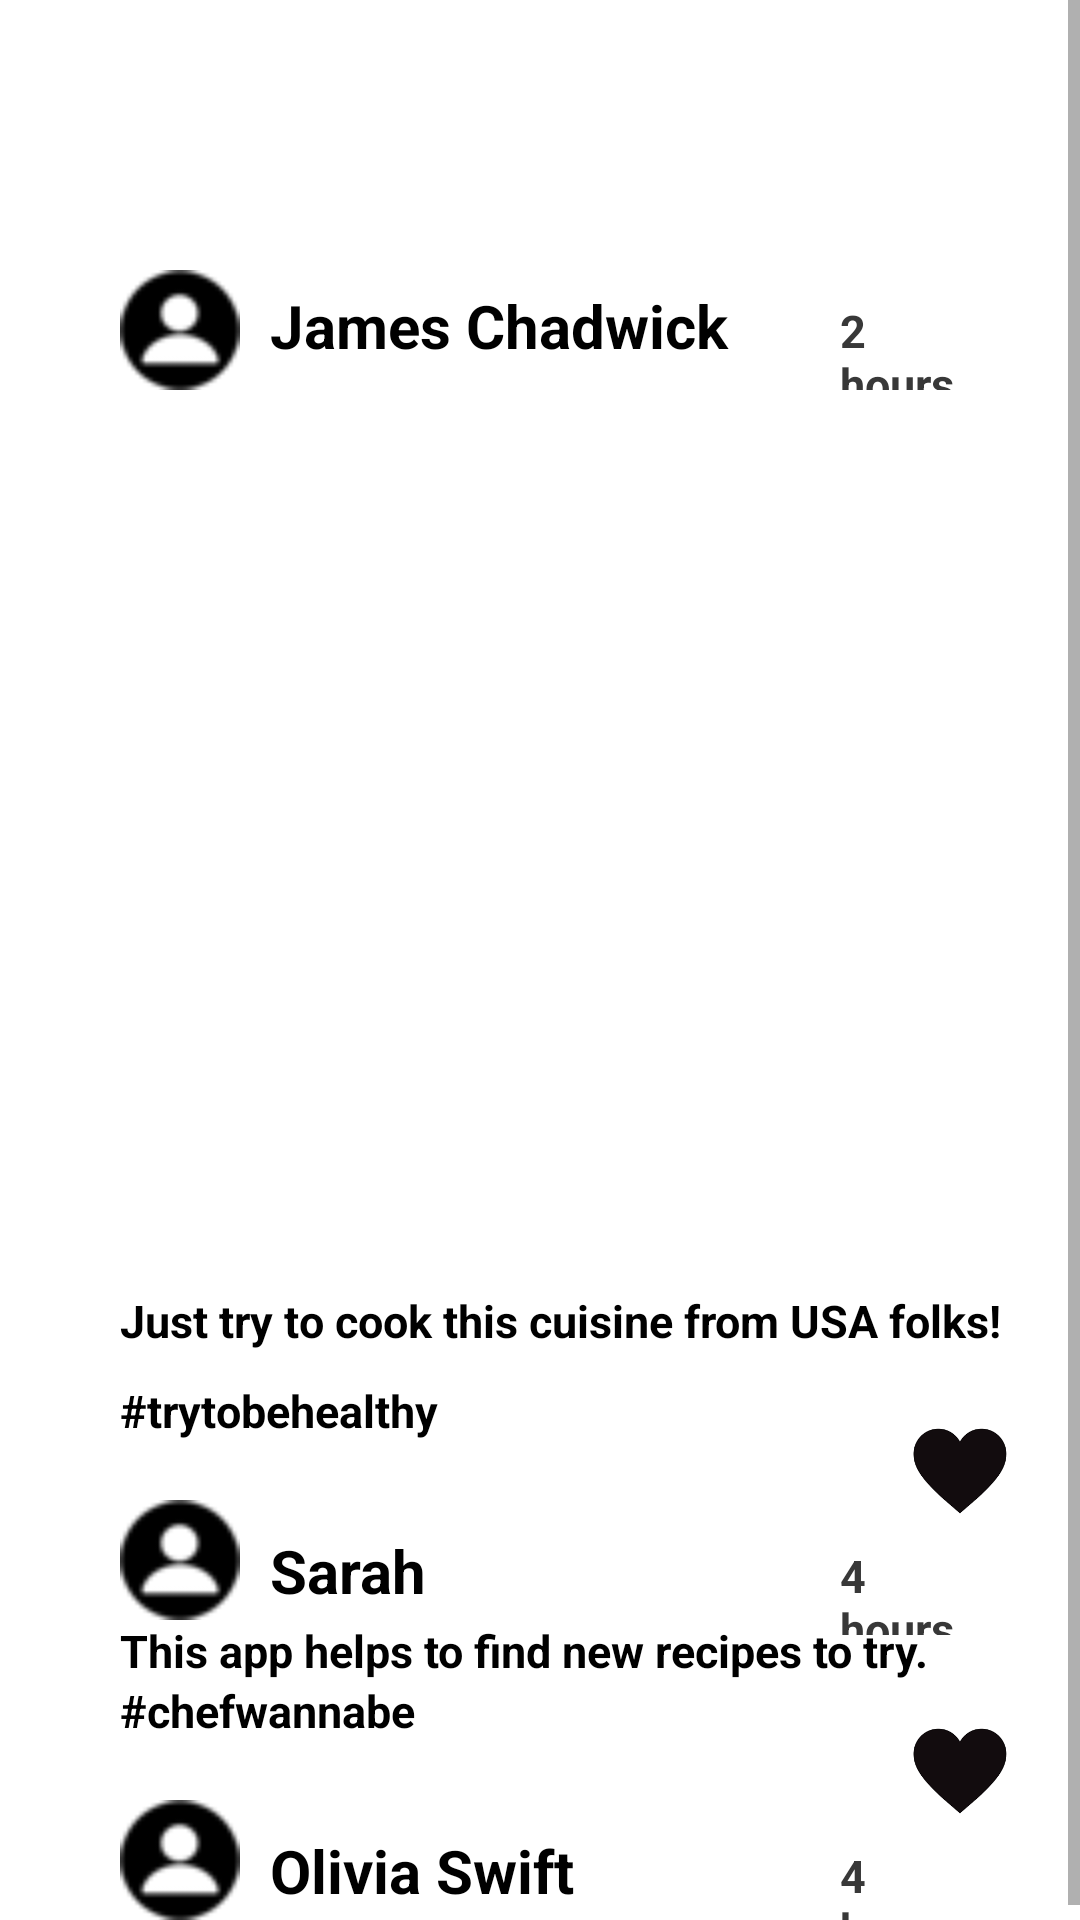

Screen size 1080 x 1920. Icon name, then its box in pixels as box(x1, y1, x2, y2):
hearticon: box(913, 1428, 1007, 1513), box(913, 1728, 1007, 1813)
profile: box(120, 270, 240, 390), box(120, 1500, 240, 1620), box(120, 1800, 240, 1920)
